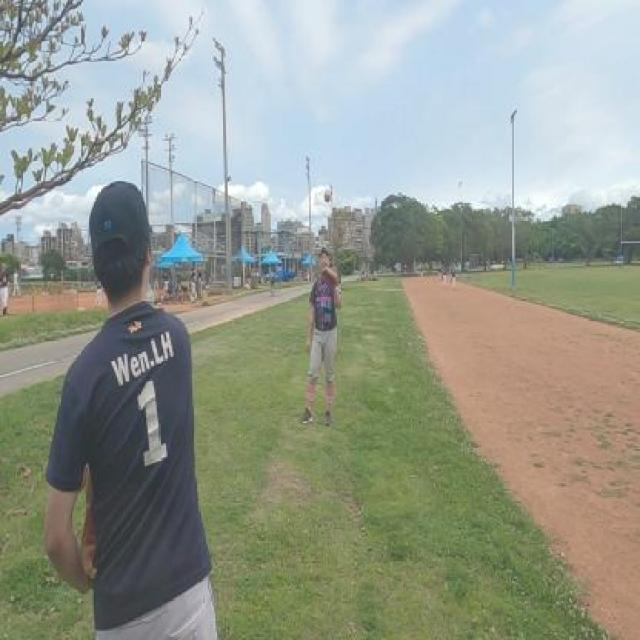ball: (323, 190, 332, 202)
